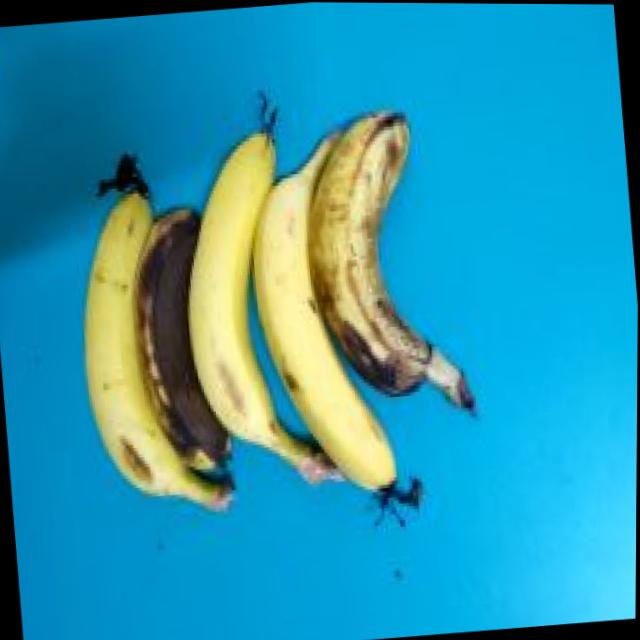Wet: (294, 99, 481, 427), (129, 193, 236, 473)
